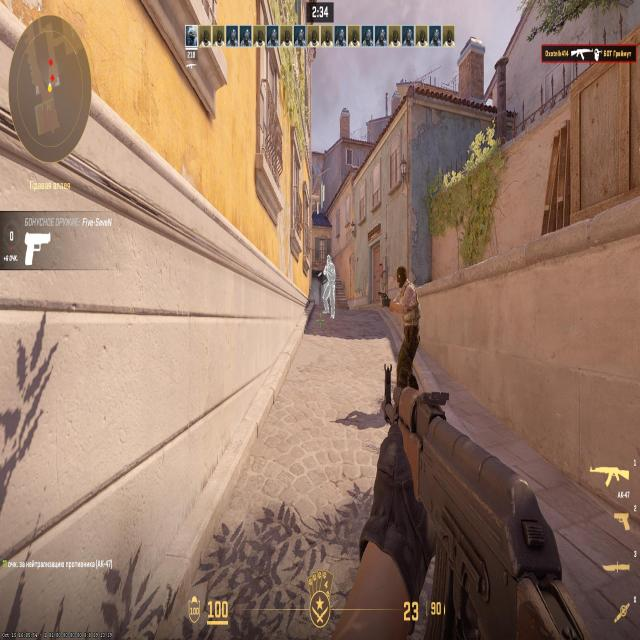T: (395, 267, 418, 370)
T_heat: (397, 271, 407, 289)
